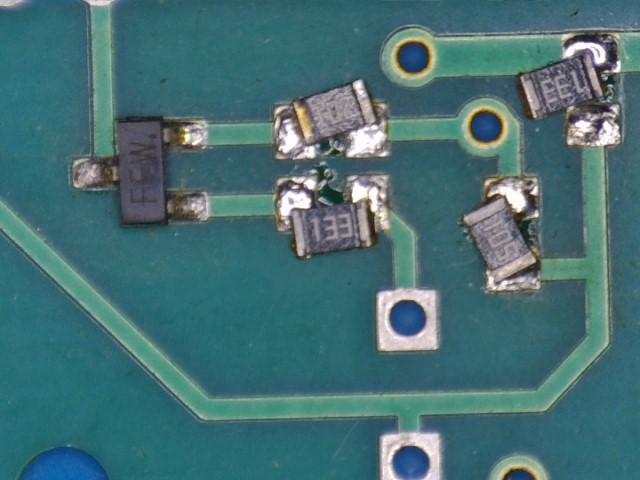Incorrect_installation: (519, 32, 623, 145), (274, 175, 390, 258), (274, 79, 390, 161), (463, 176, 542, 292)
